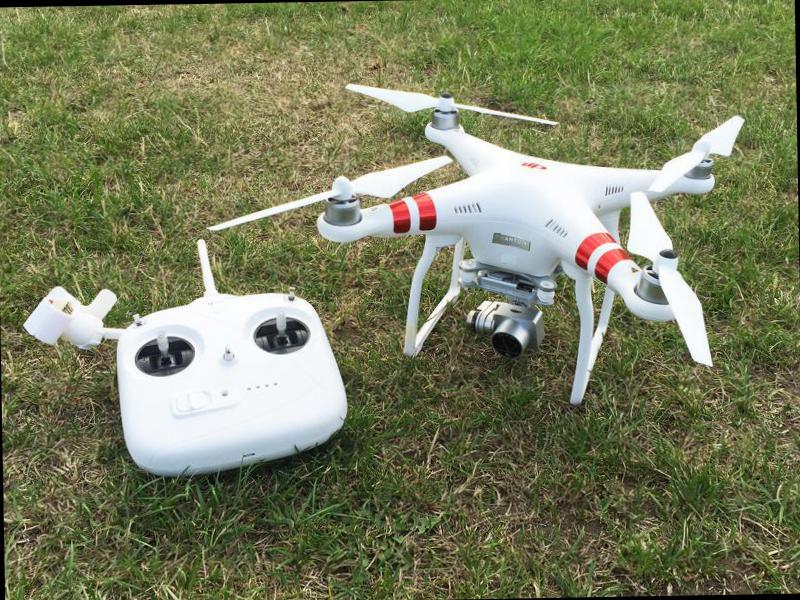drone: (307, 71, 741, 410)
